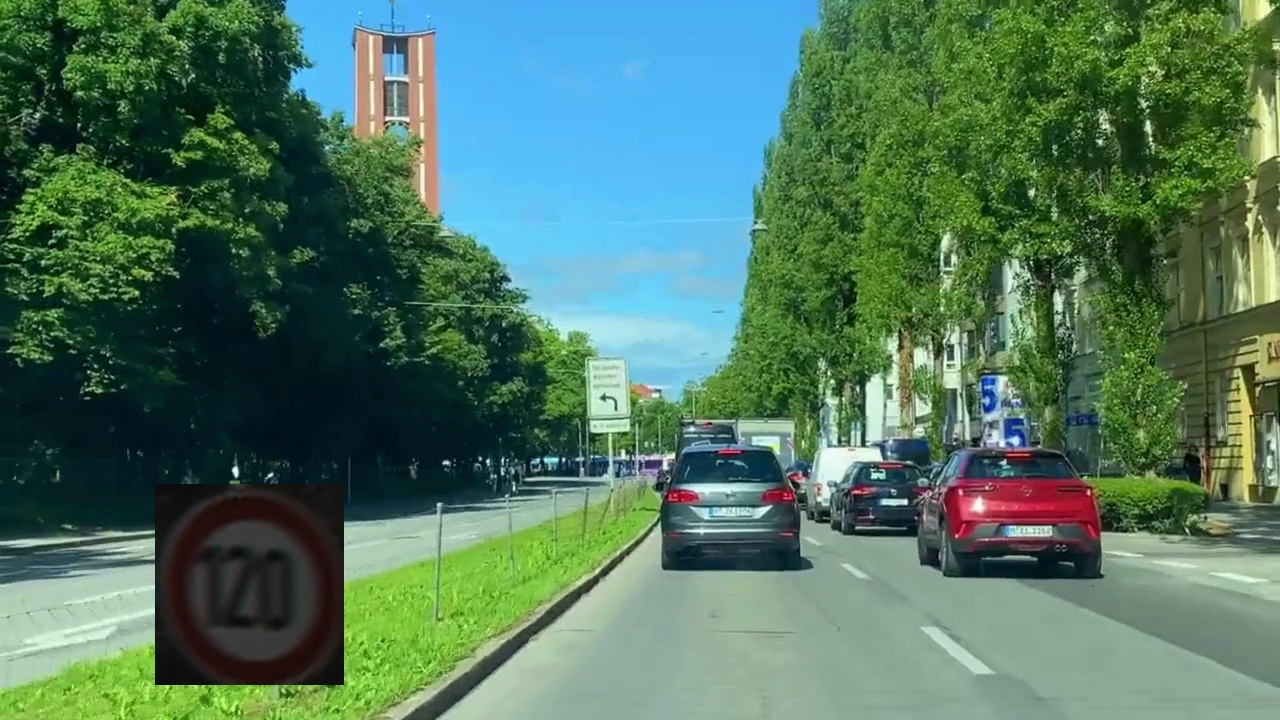Speed 120: (155, 484, 344, 685)
